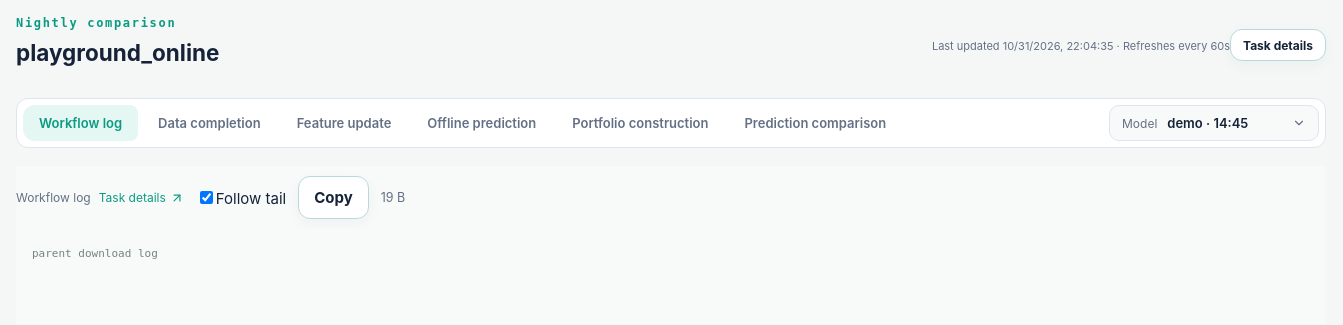
Test: keeps nightly stages visible when a comparison report is malformed
The image size is (1343, 325).
Click the tab "Prediction comparison" at (815, 123), box 728,105 -> 902,141
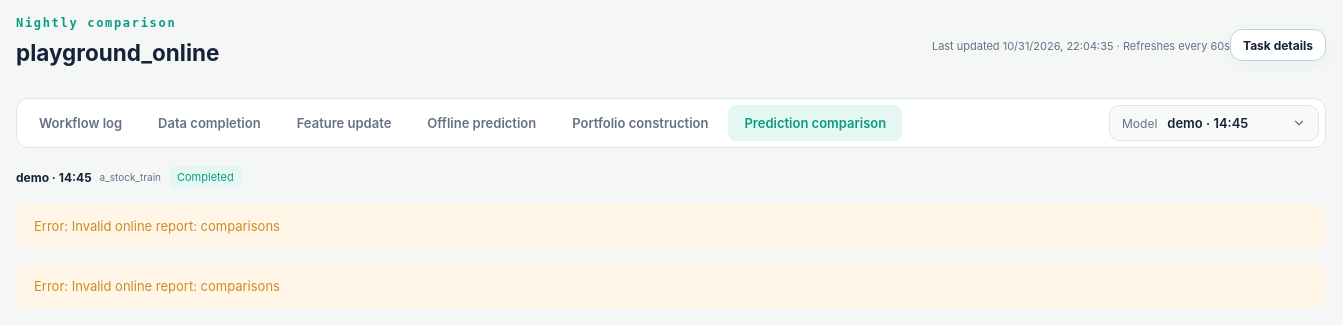
expect the text "Invalid online report" is shown: met, box 34,218 -> 280,234
